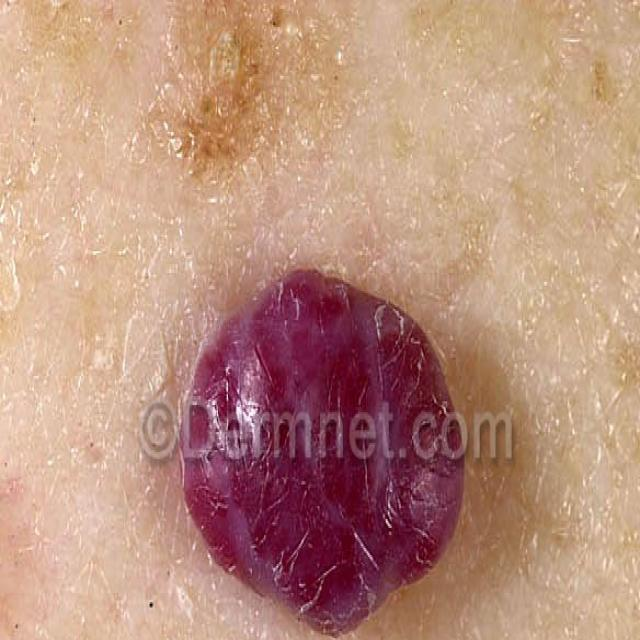Vascular Tumors: (162, 246, 482, 640)
